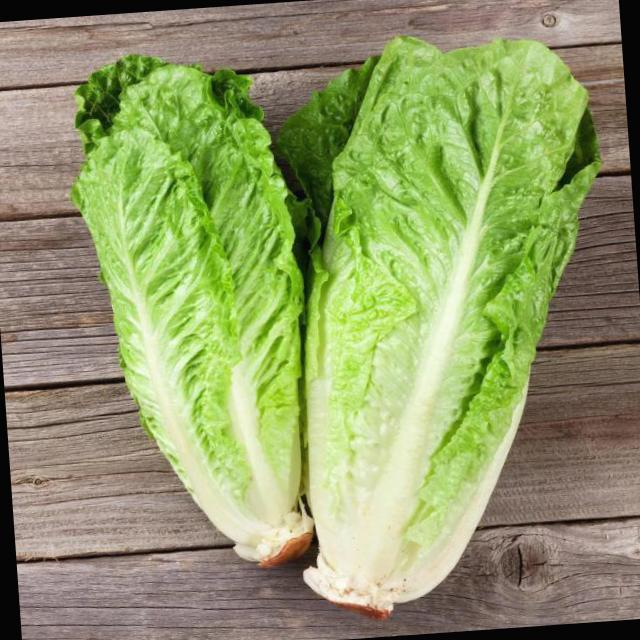Lettuce-Ready-to-Harvest: (304, 38, 600, 614), (72, 55, 312, 565)
